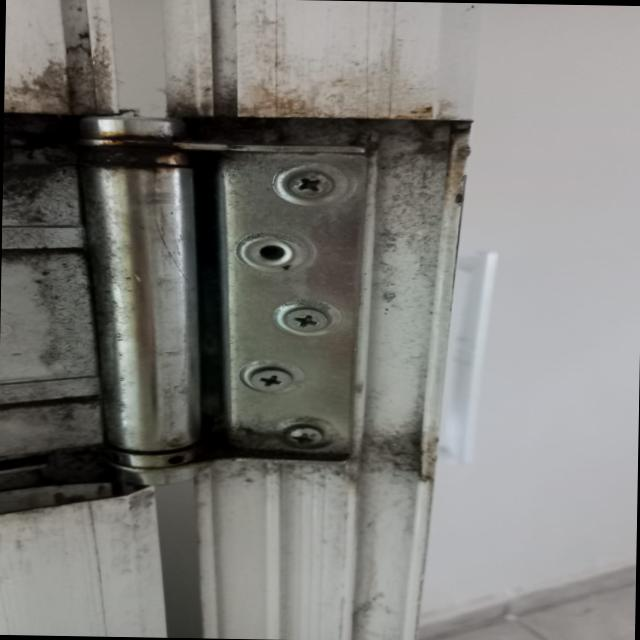Phillips: (280, 172, 340, 200), (280, 306, 336, 336), (274, 422, 326, 448), (250, 367, 291, 387)
